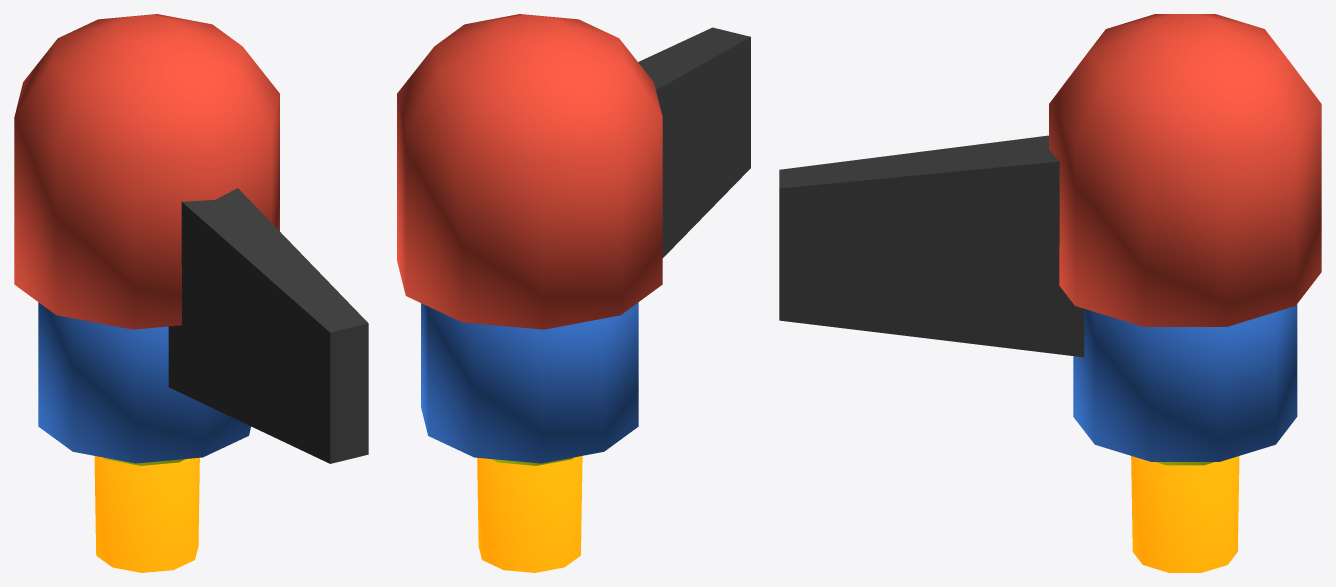
The model's file is directional.glb.
The picture shows the model from 3 angles, left to right: view 1: azimuth 30°, elevation 25°; view 2: azimuth 150°, elevation 25°; view 3: azimuth 270°, elevation 25°; orthographic projection.
Parts seen in each view (by area): view 1: Cube.062, boost-part.017; view 2: Cube.062, boost-part.017; view 3: Cube.062, boost-part.017.
Part boxes in pixels (x1=…): Cube.062: x1=14, y1=14, x2=368, y2=465; boost-part.017: x1=94, y1=456, x2=199, y2=572; Cube.062: x1=397, y1=14, x2=750, y2=465; boost-part.017: x1=477, y1=456, x2=582, y2=572; Cube.062: x1=779, y1=14, x2=1321, y2=465; boost-part.017: x1=1131, y1=456, x2=1239, y2=572.
Bounding box in the file's own units: 0.1072 × 0.2387 × 0.2241.
